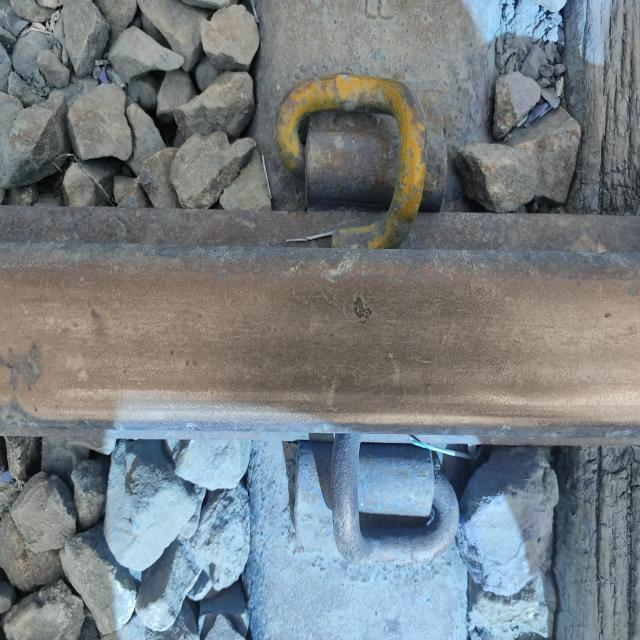Good Fasteners: (270, 76, 465, 252), (278, 423, 462, 579)
